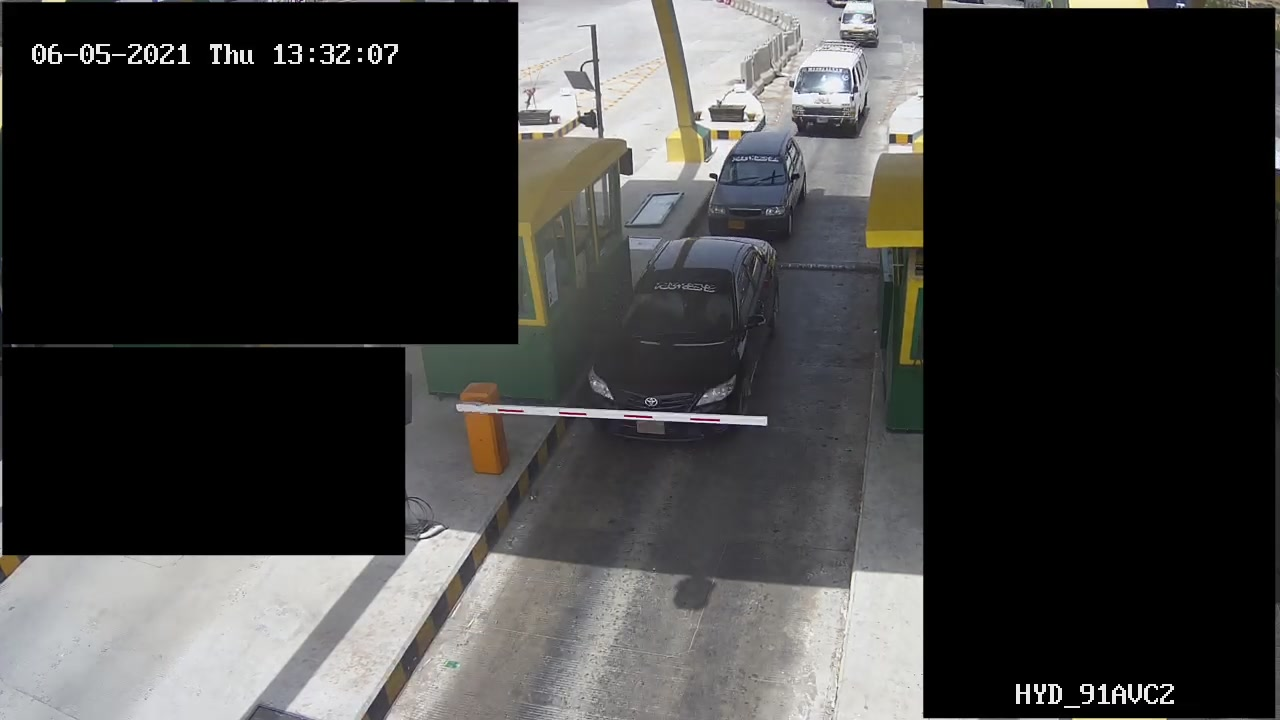F2: (790, 38, 868, 139)
